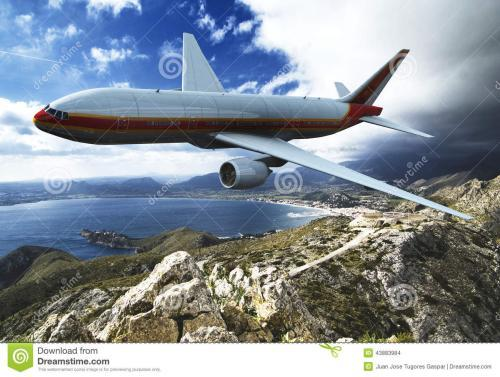airplane: (32, 30, 481, 223)
